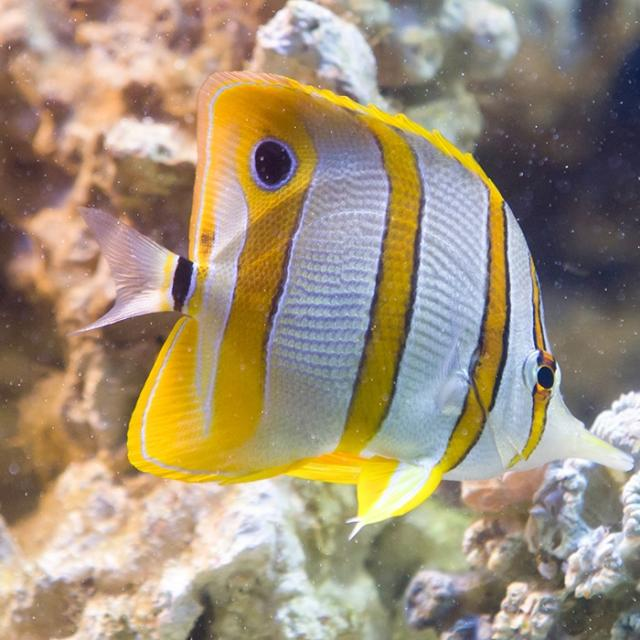ButterflyFish: (109, 72, 632, 528)
